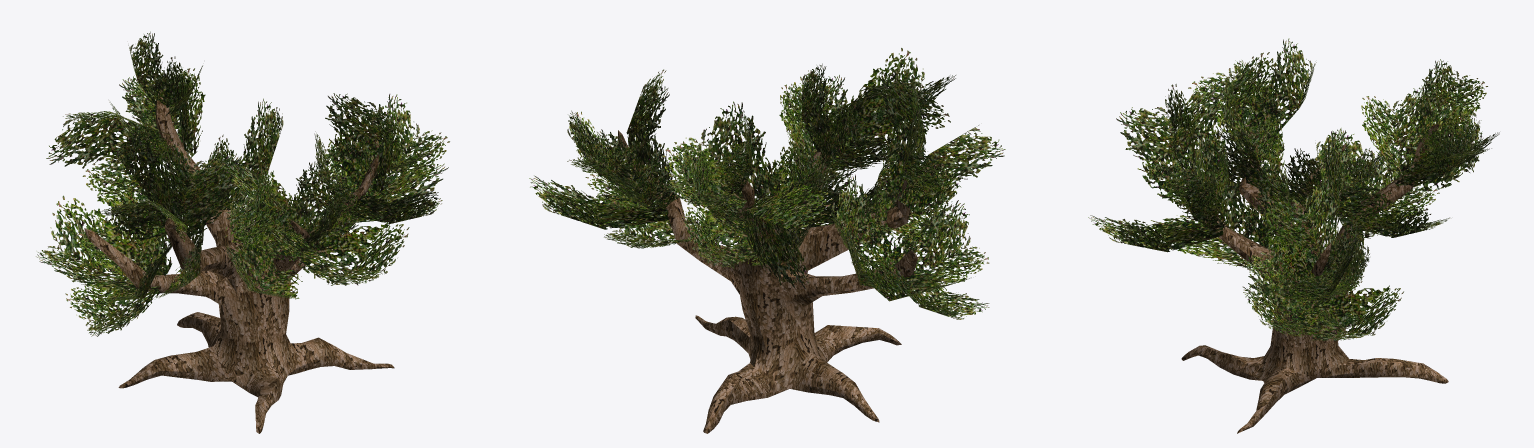
File: mm9_deco_greenmanstree.glb
3 views of the same model, side by side, from view 1: azimuth 30°, elevation 25°; view 2: azimuth 150°, elevation 25°; view 3: azimuth 270°, elevation 25° (orthographic). The views are drawn at different scales.
Parts seen in each view (by area): view 1: Greenmanstree; view 2: Greenmanstree; view 3: Greenmanstree.
Part boxes in pixels (x1,y1,x2,y2): Greenmanstree: (36,31,449,433); Greenmanstree: (529,48,1005,433); Greenmanstree: (1088,38,1499,433).
Size of the model in its own units: 60.57 by 40.42 by 51.24.
2 materials, 2 textured.
